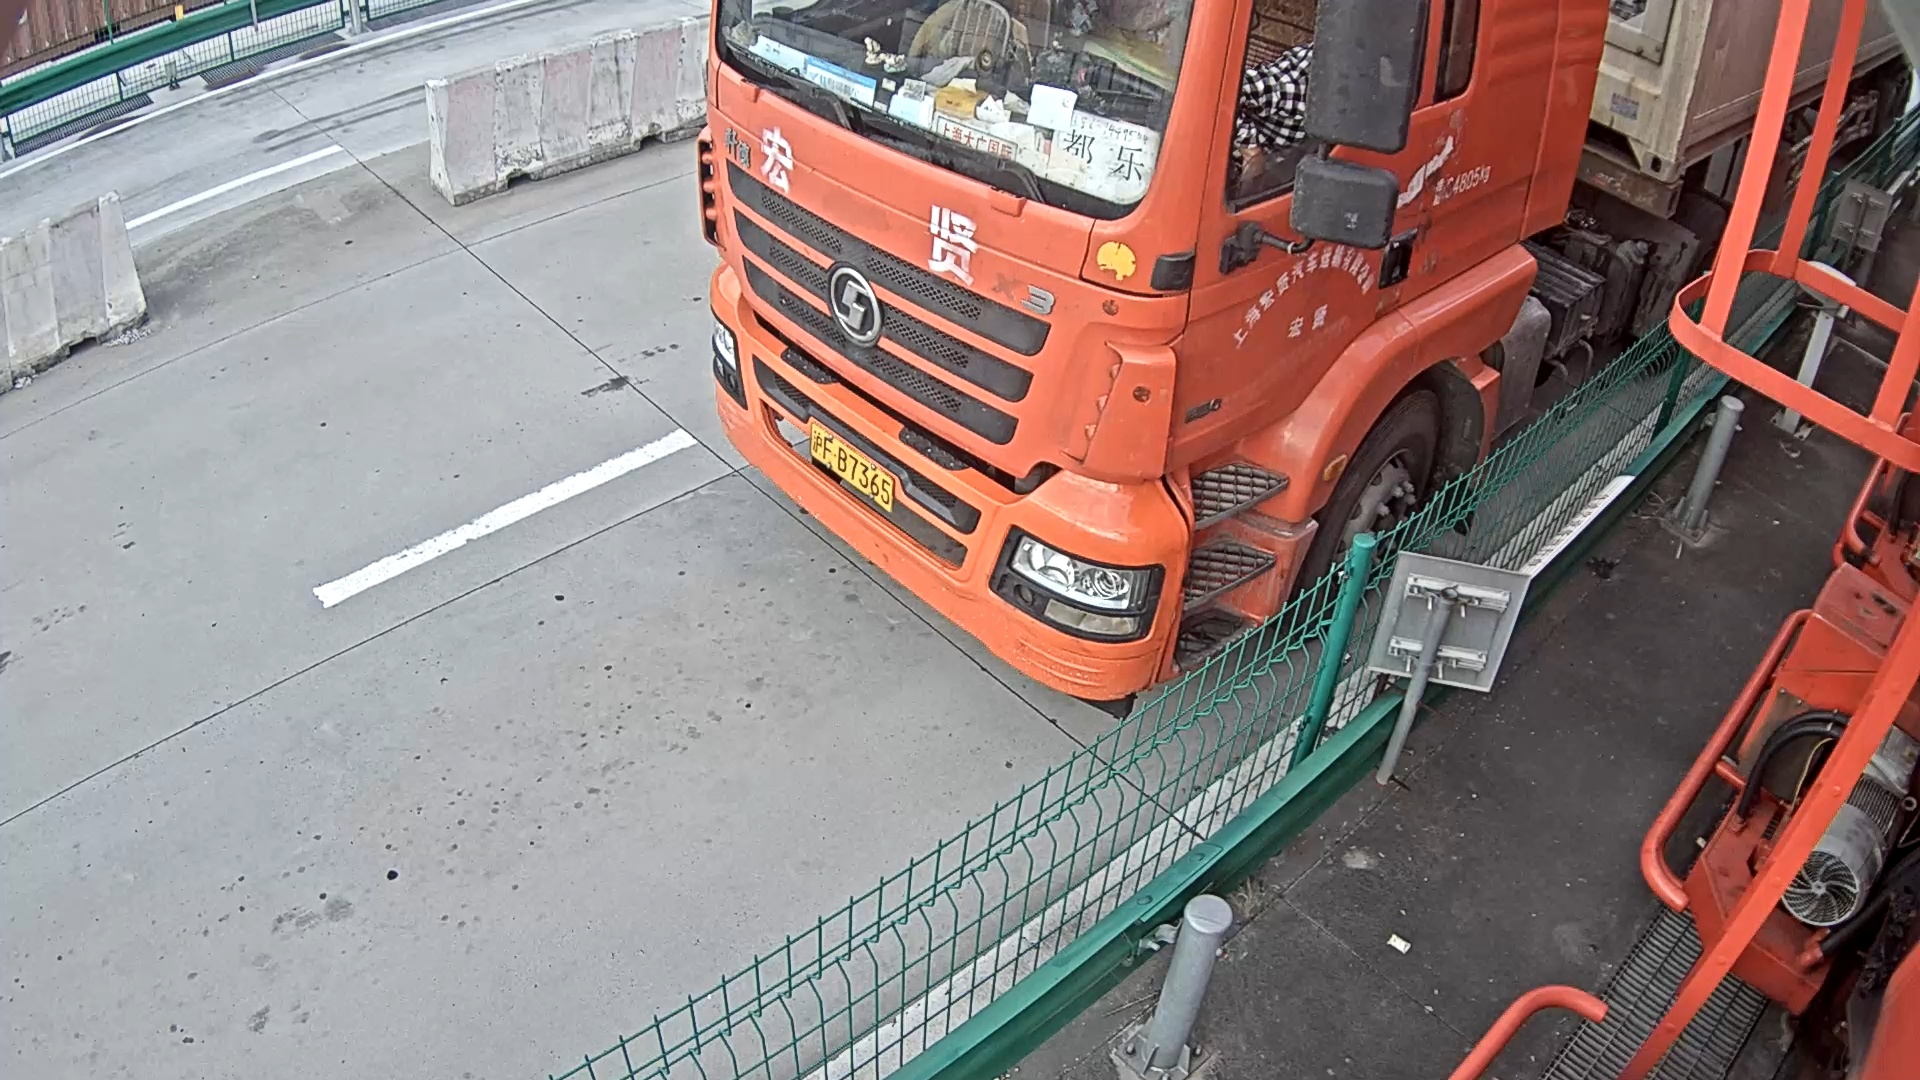head: (693, 1, 1618, 706)
plate: (812, 415, 892, 509)
